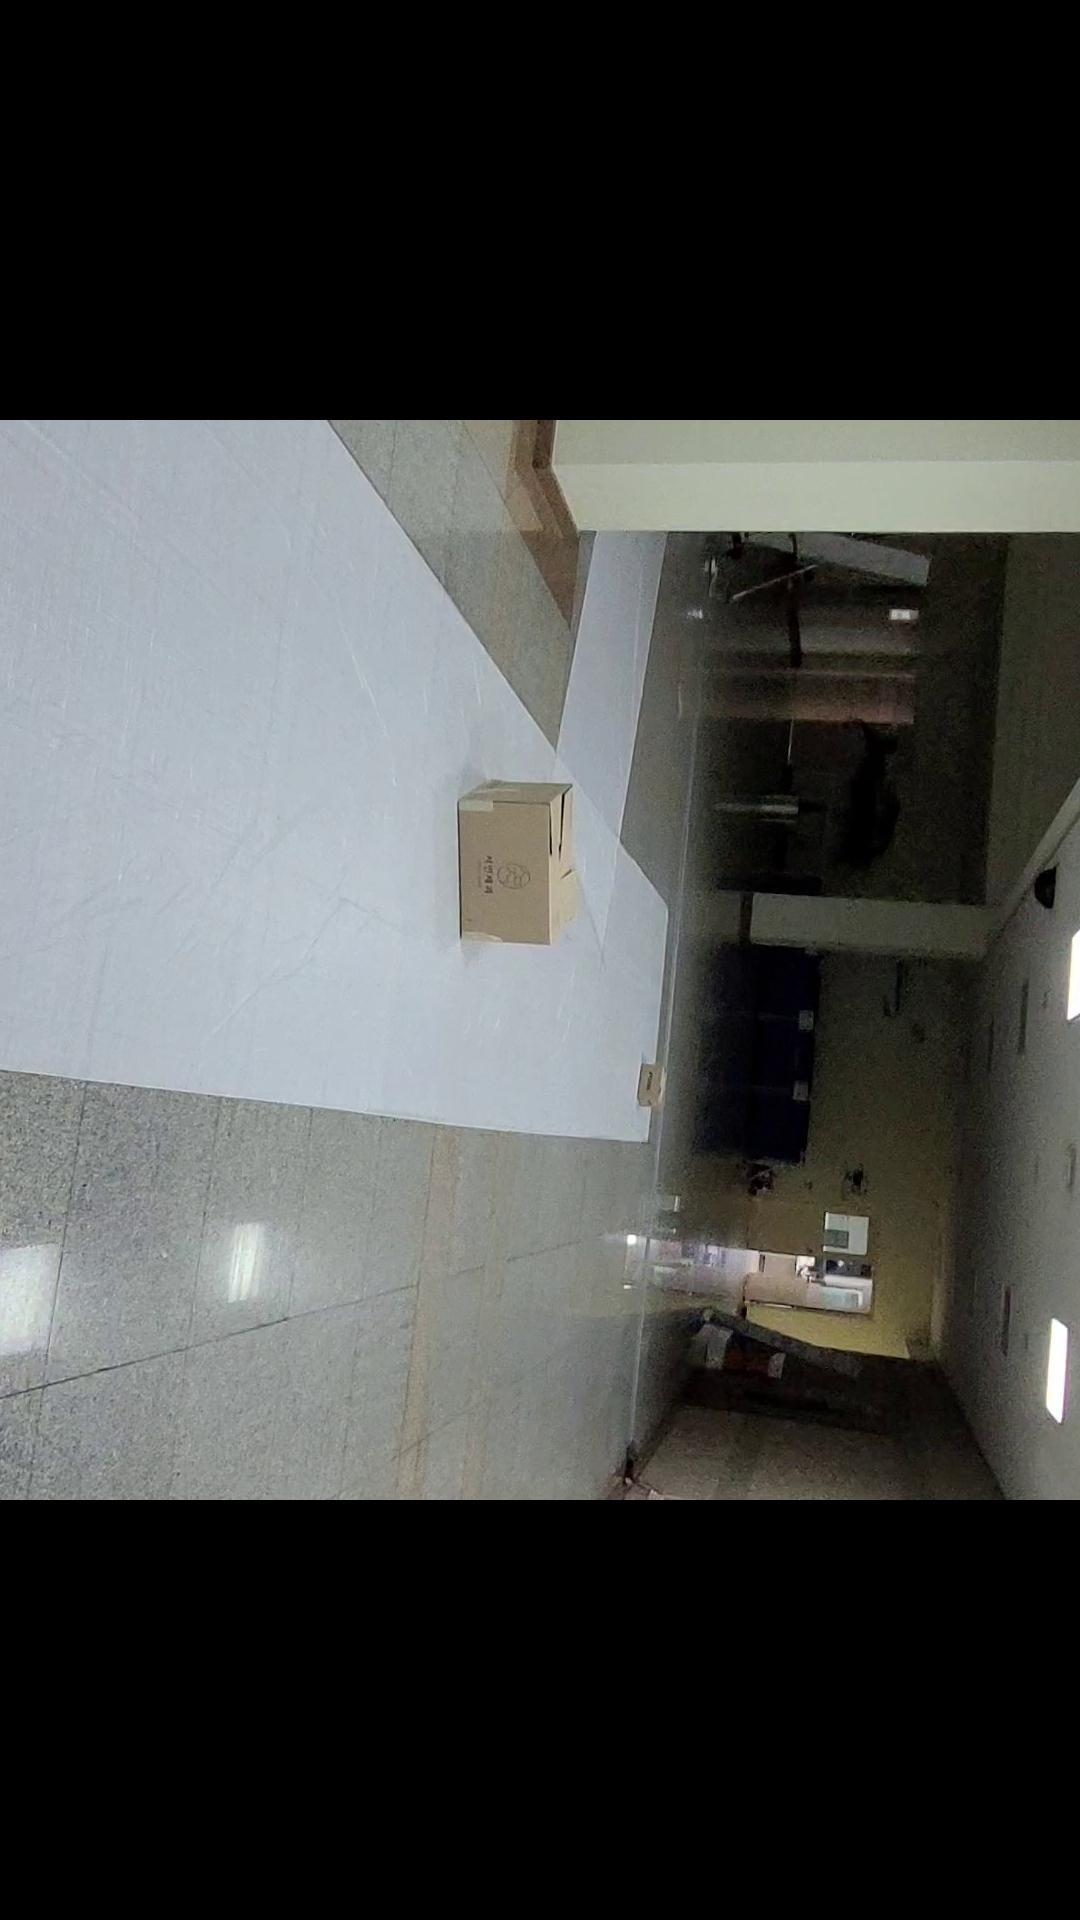Box: (427, 761, 597, 980), (628, 1043, 690, 1120)
